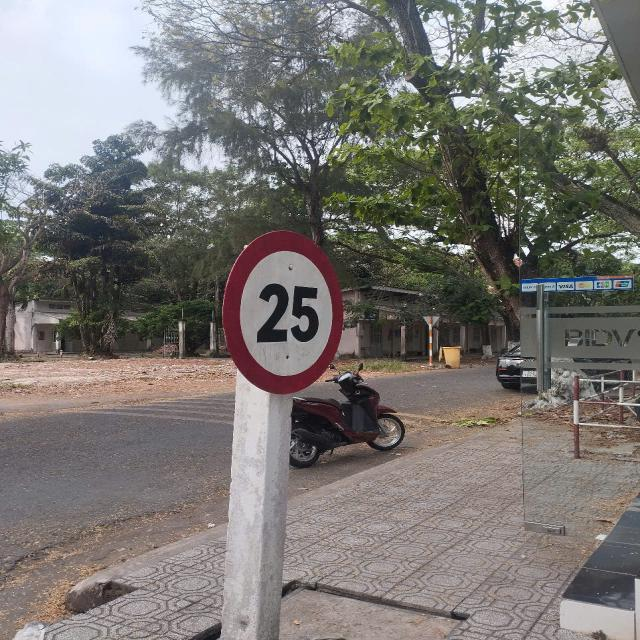Tre_Em: (221, 229, 345, 393)
